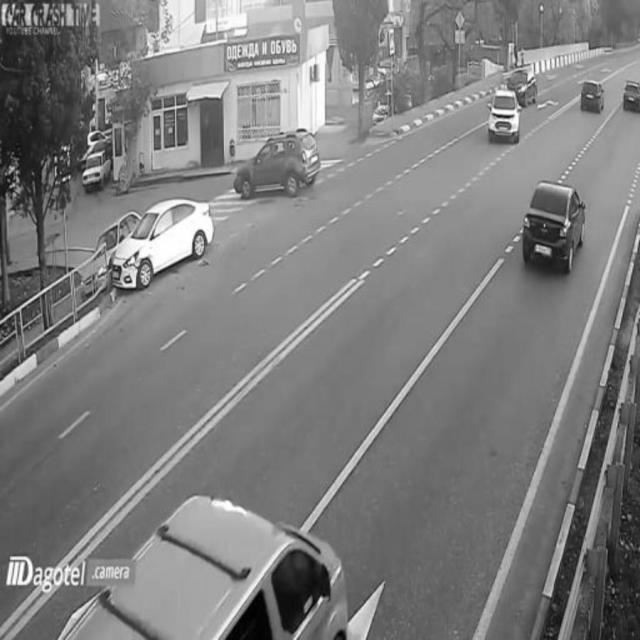accident: (82, 200, 210, 292)
vehicle: (227, 123, 323, 203), (525, 178, 589, 270), (484, 88, 525, 152), (505, 65, 541, 107), (82, 146, 110, 192), (577, 77, 607, 114), (619, 73, 639, 120)
